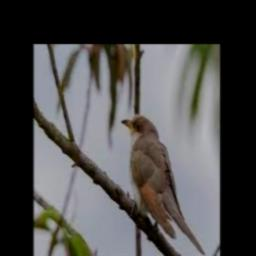Cuckoo: (121, 115, 206, 256)
